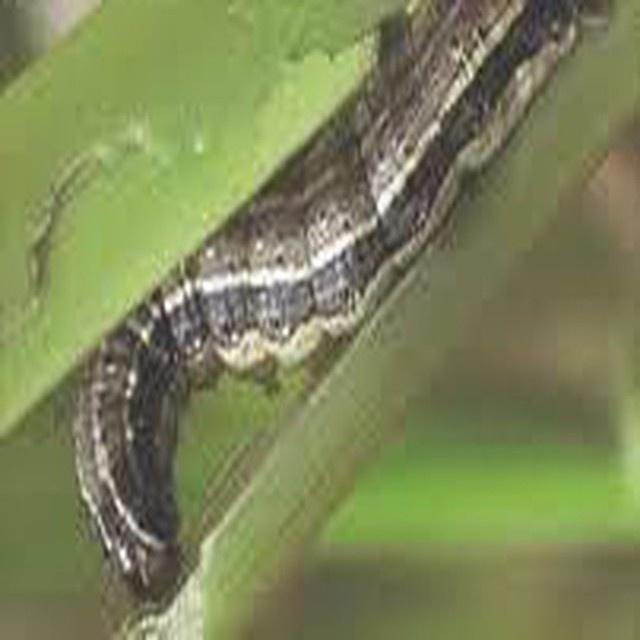gusano_cogollero: (71, 0, 594, 590)
